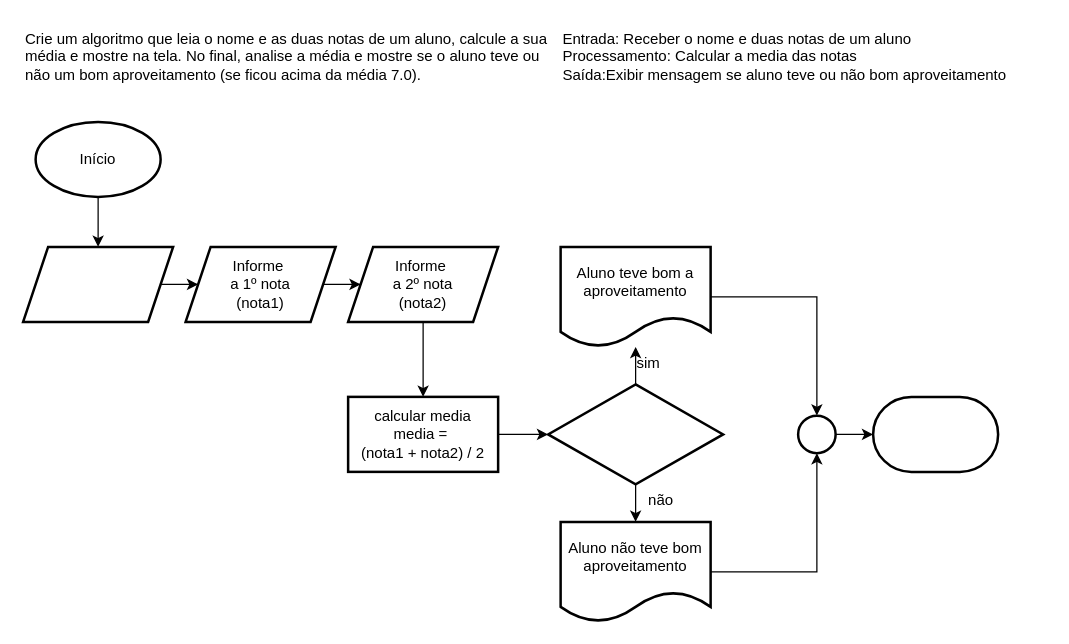
Some shapes in this 1069 by 644 pixel diagram are drawn without their labels. Each missing label, with the centre of its shape:
"Fim" belongs at (x=935, y=433).
"Informe o nome do aluno (nome)" belongs at (x=97, y=283).
"media > 7" belongs at (x=635, y=433).
